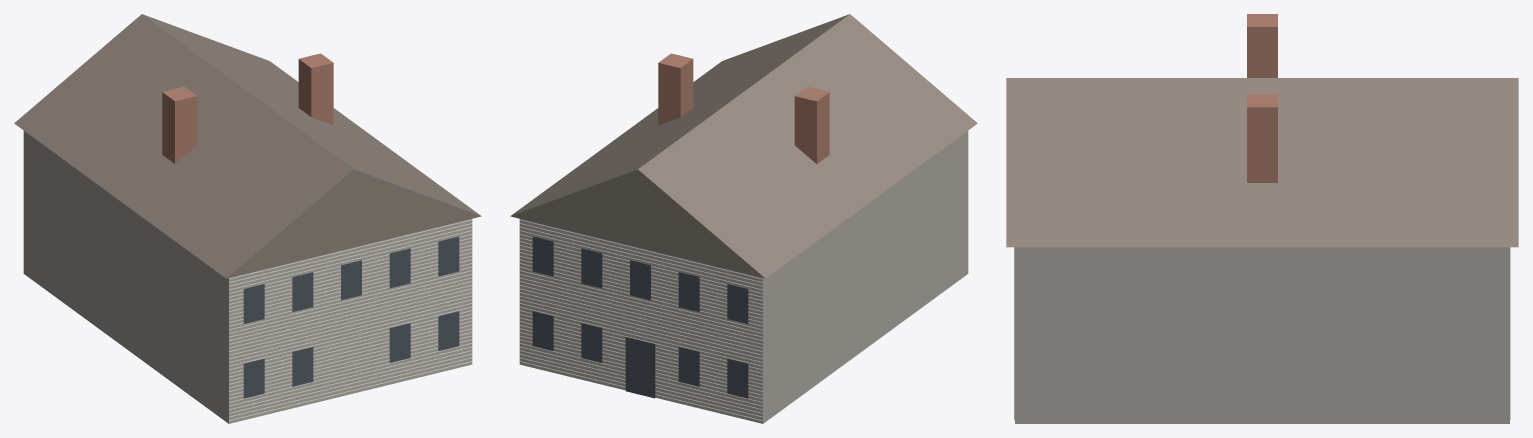
File: recon_1835_north_h3_045__inferred_1835.glb
3 views of the same model, side by side, from view 1: azimuth 30°, elevation 25°; view 2: azimuth 150°, elevation 25°; view 3: azimuth 270°, elevation 25° (orthographic). The views are drawn at different scales.
Visible parts, largest first — view 1: recon_1835_north_h3_045__inferred_1835; view 2: recon_1835_north_h3_045__inferred_1835; view 3: recon_1835_north_h3_045__inferred_1835.
Part boxes in pixels (bbox=[...]): recon_1835_north_h3_045__inferred_1835: bbox=[14, 14, 481, 423]; recon_1835_north_h3_045__inferred_1835: bbox=[510, 14, 977, 423]; recon_1835_north_h3_045__inferred_1835: bbox=[1006, 14, 1518, 423].
Size of the model in its own units: 10.31 by 9.32 by 14.83.
